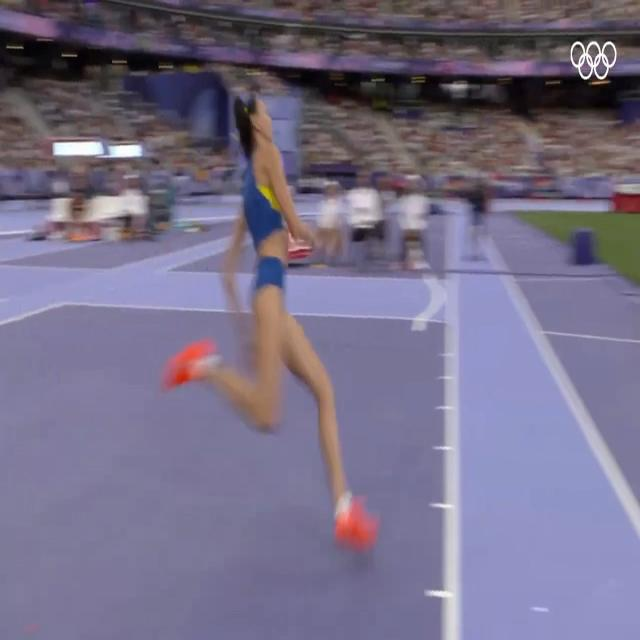run: (165, 99, 375, 548)
